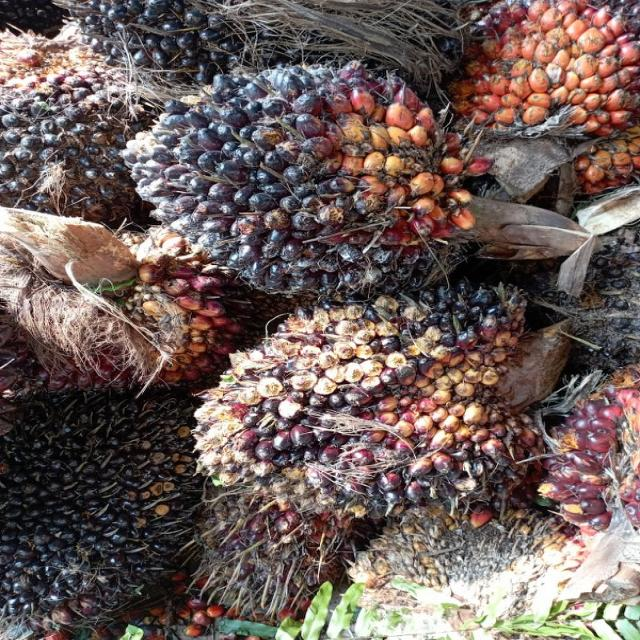fraksi 00: (122, 56, 474, 305), (189, 282, 523, 522), (0, 389, 203, 640)
fraksi 3: (466, 0, 639, 205)
